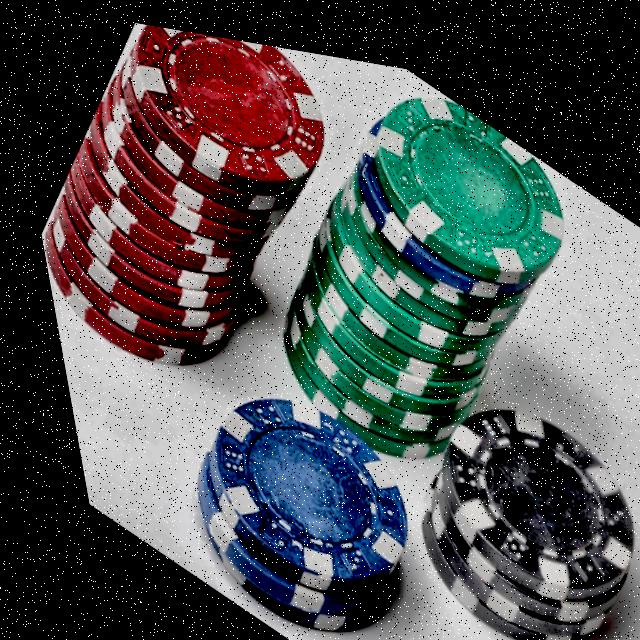Chip: (185, 25, 624, 514), (0, 0, 402, 433), (115, 328, 464, 640), (344, 334, 640, 640)
